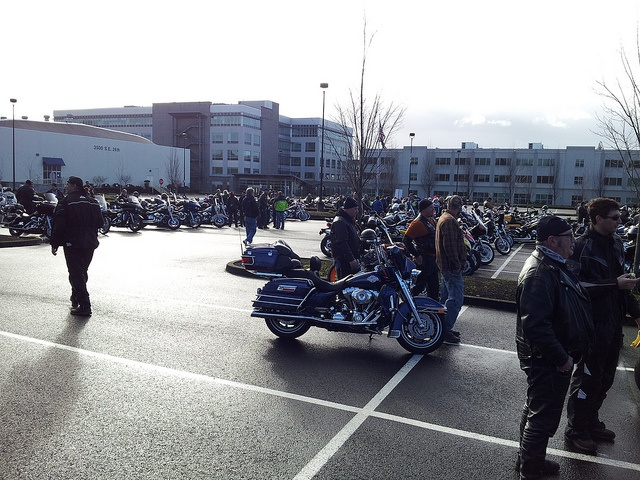non-vehicle: (241, 240, 449, 355), (1, 190, 58, 239), (359, 217, 393, 270), (470, 210, 510, 254), (143, 195, 181, 229), (461, 223, 494, 262), (102, 203, 144, 231), (502, 215, 539, 243), (173, 196, 202, 228), (197, 196, 226, 228), (318, 223, 333, 257), (463, 238, 479, 269), (385, 205, 414, 221)
